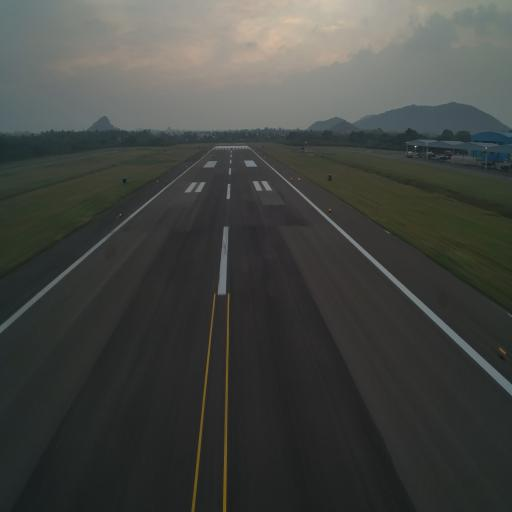on: (118, 211, 122, 219), (328, 207, 332, 214)
